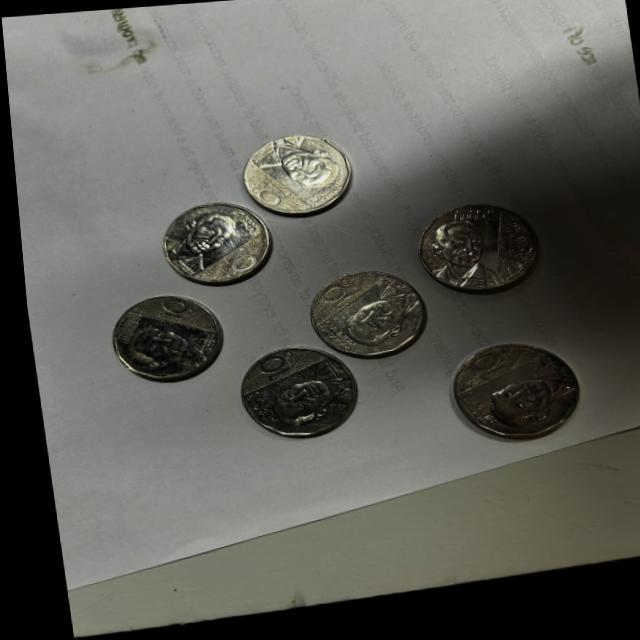10_New_Front: (306, 272, 366, 325), (460, 342, 520, 394), (238, 170, 295, 216), (145, 294, 196, 326), (496, 227, 534, 267), (205, 251, 258, 279), (251, 353, 298, 378)
